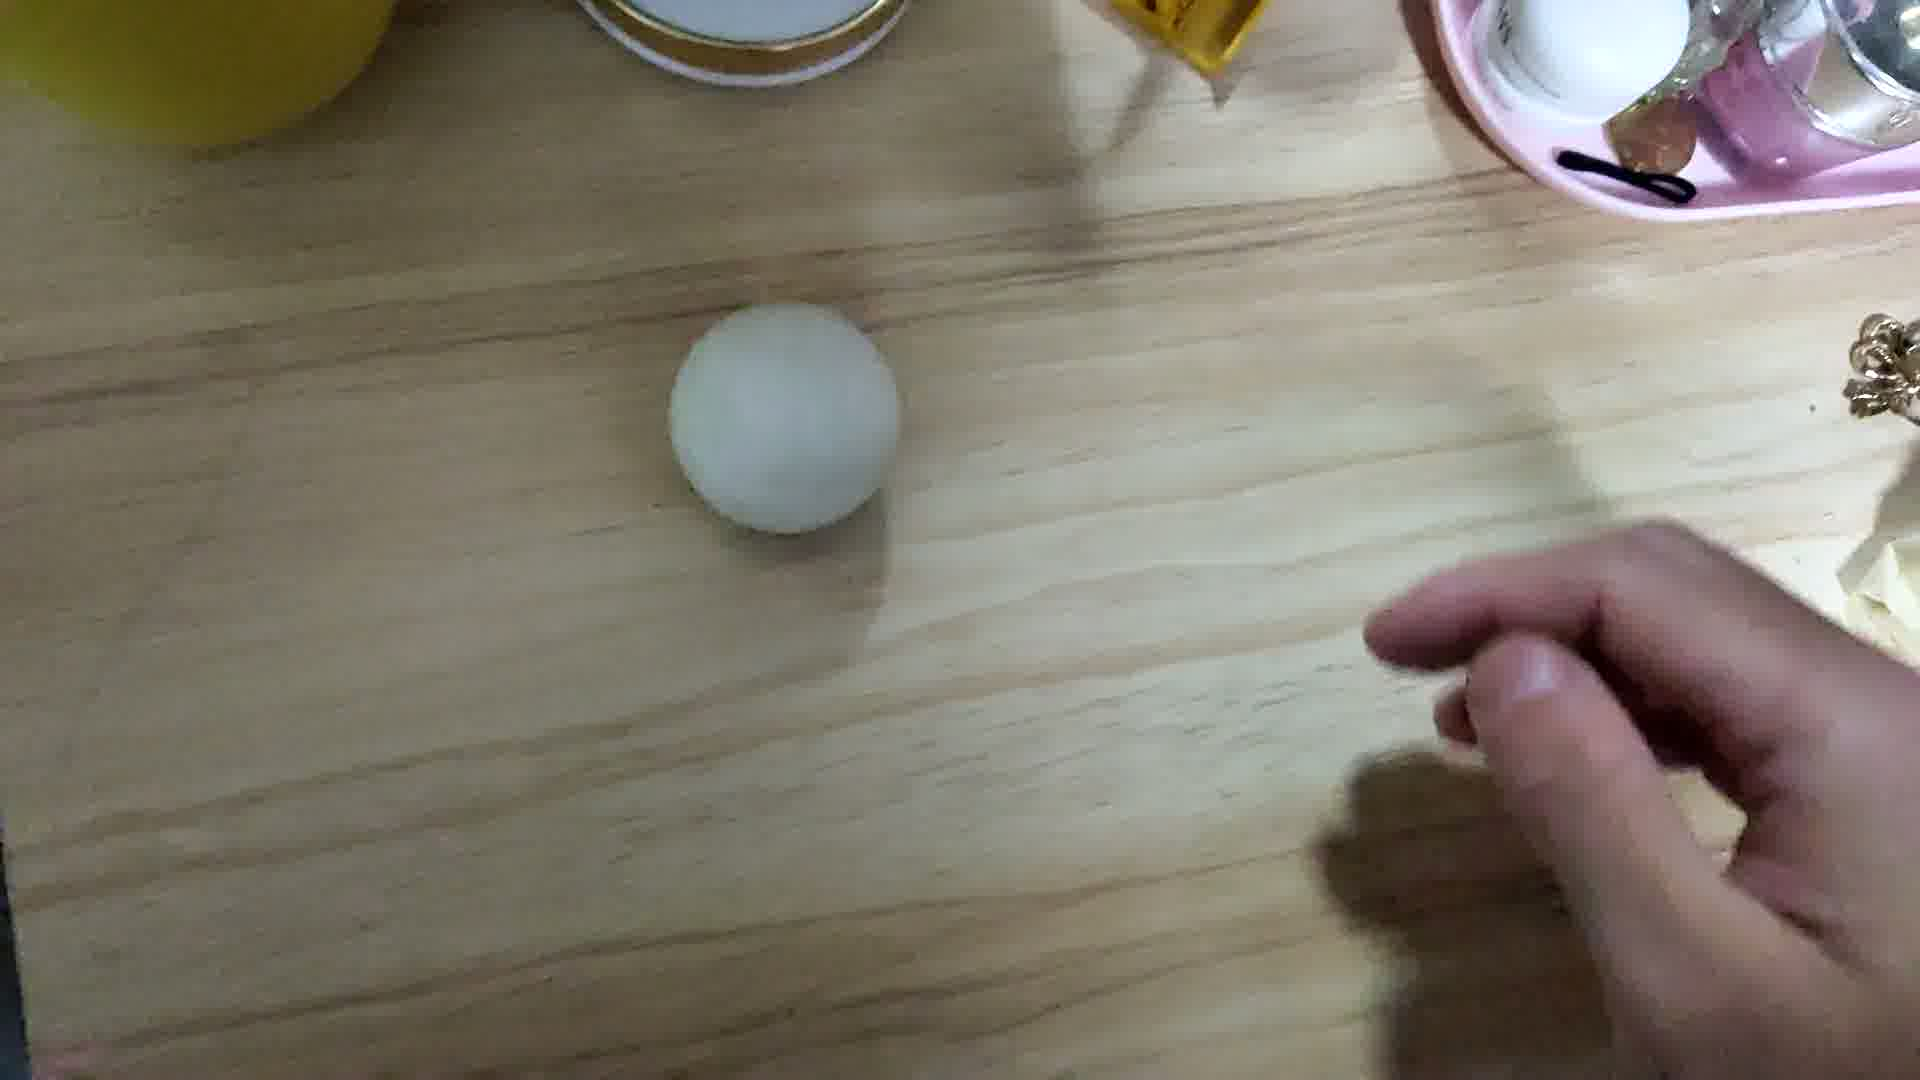Ball: (675, 303, 899, 535)
